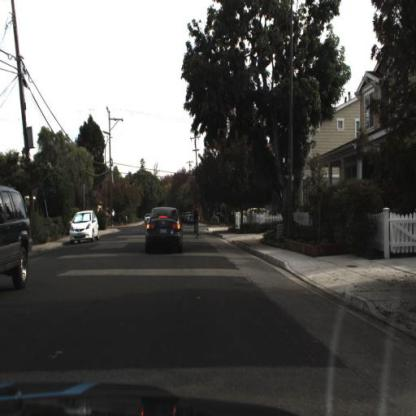biker: (190, 199, 202, 242), (193, 200, 202, 240)
car: (1, 185, 33, 297), (142, 203, 189, 263), (65, 205, 104, 247)
